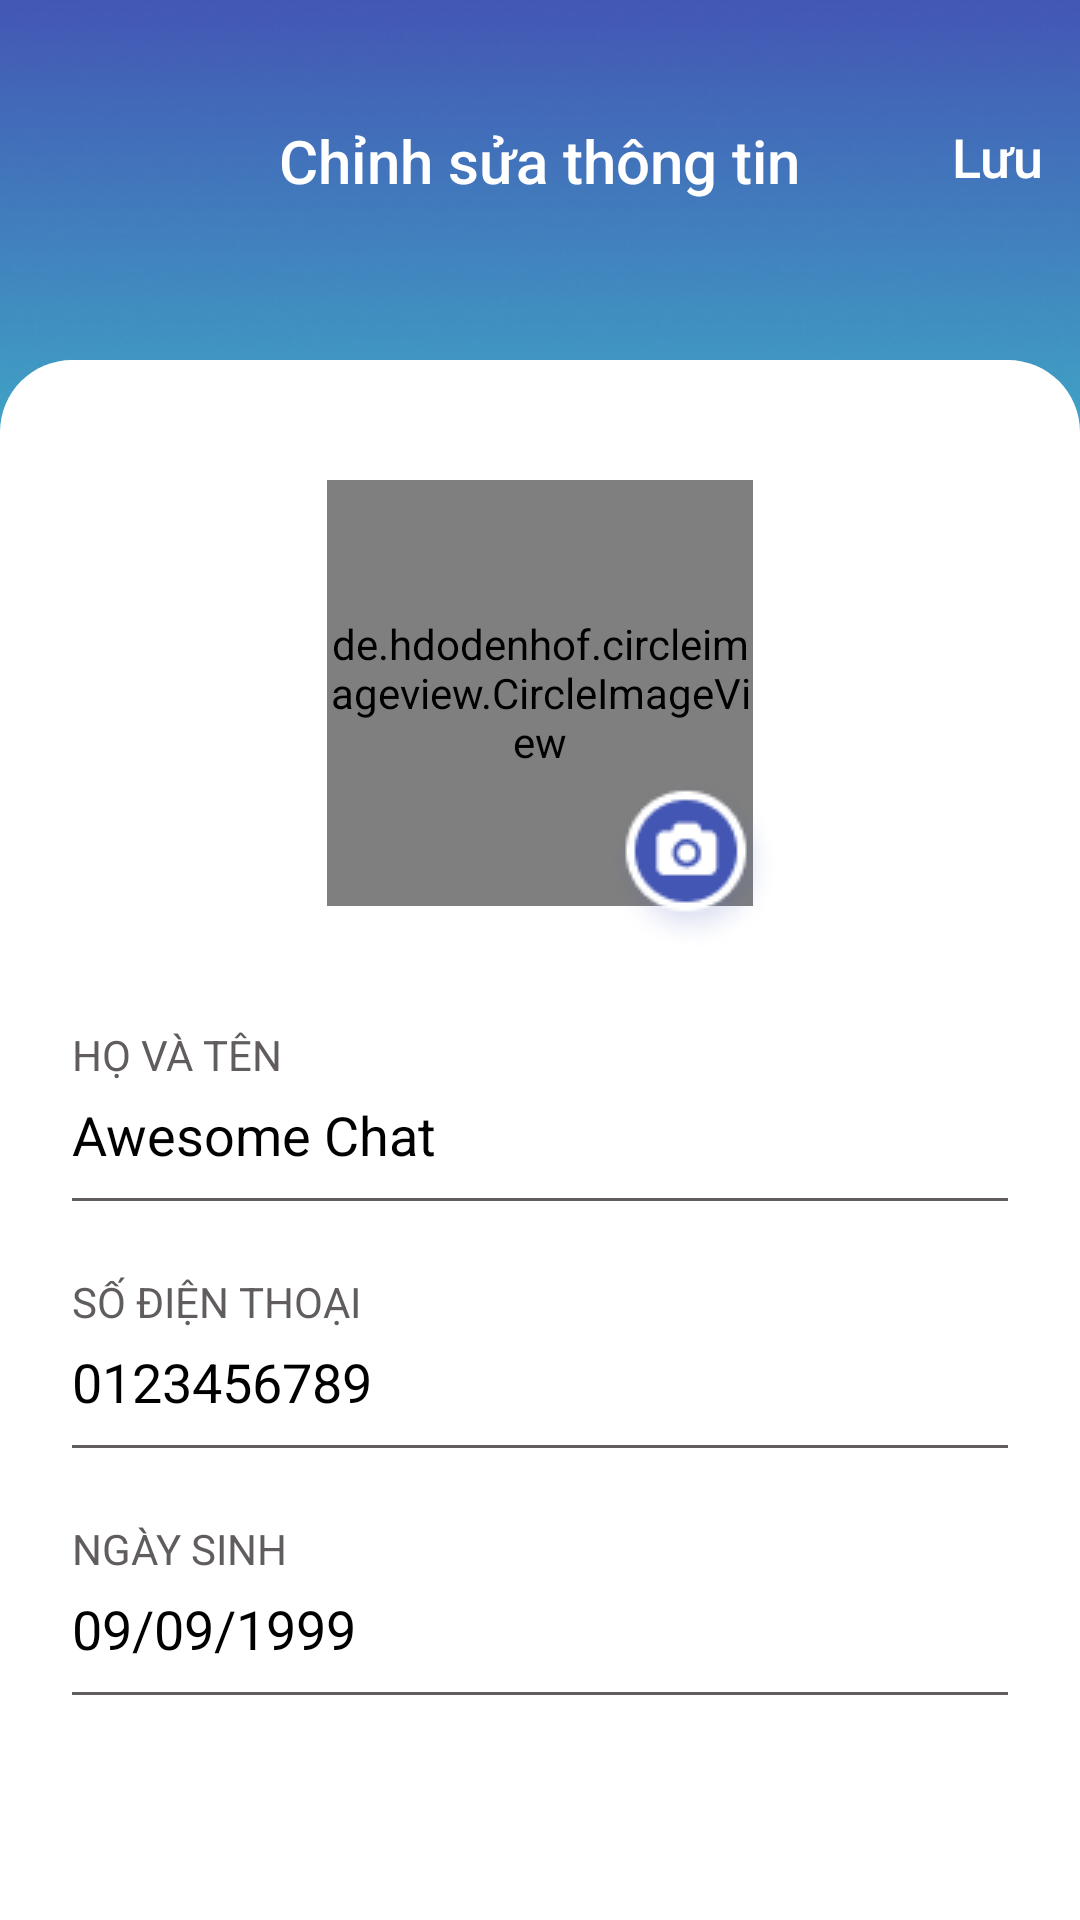

Screen size 1080px×1920px. Icon name, then its center in pixels as (x=x, y=y):
camera: (x=677, y=845)
